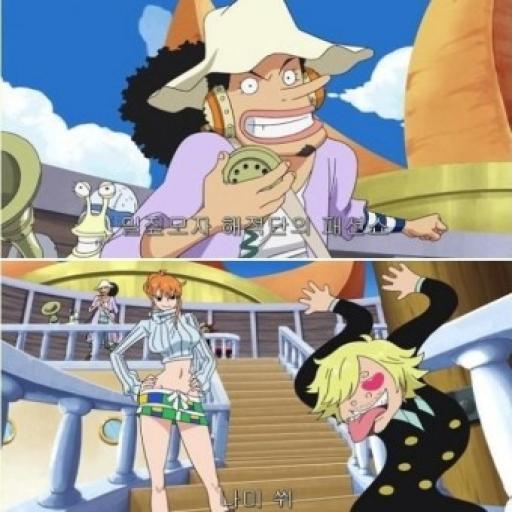Nami: (137, 264, 203, 318)
Usopp: (161, 0, 339, 173), (79, 272, 127, 368)
sanji: (303, 333, 426, 453)
